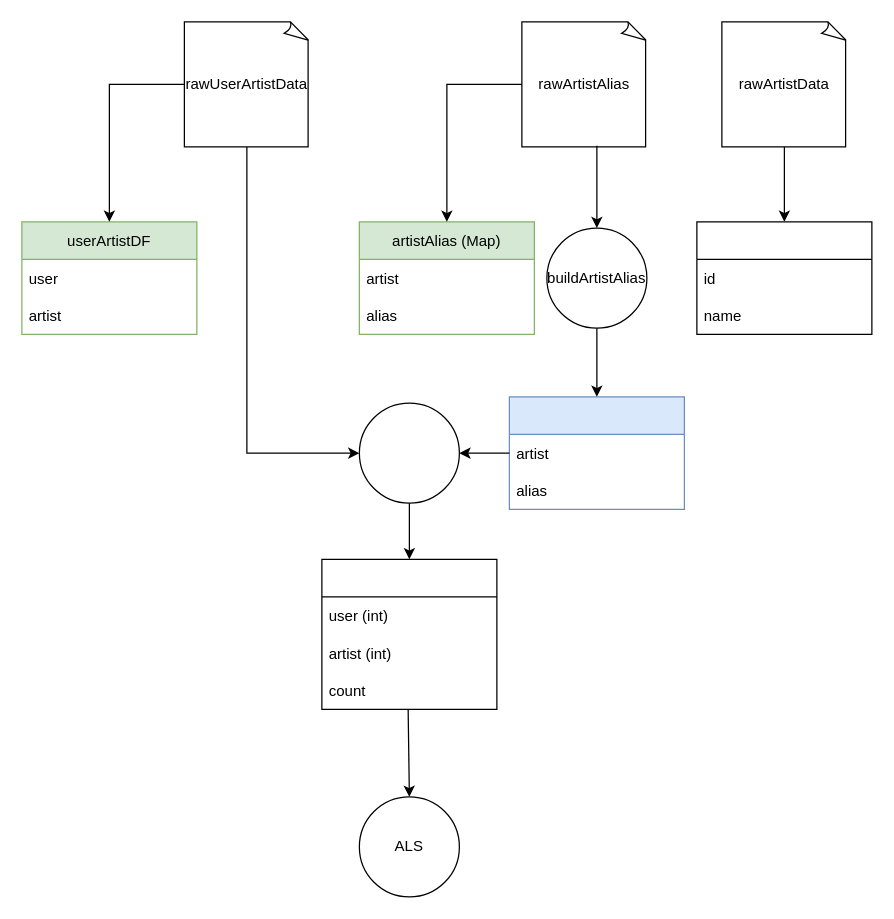
Image size: 894x919. Some labels were removed from this diagram. Each missing label, with the box of its shape:
artistByID (DF): (696, 221, 872, 334)
bartistAlias (Map): (508, 396, 684, 509)
buildCounts: (358, 402, 459, 503)
trainData (DF): (321, 558, 497, 709)
